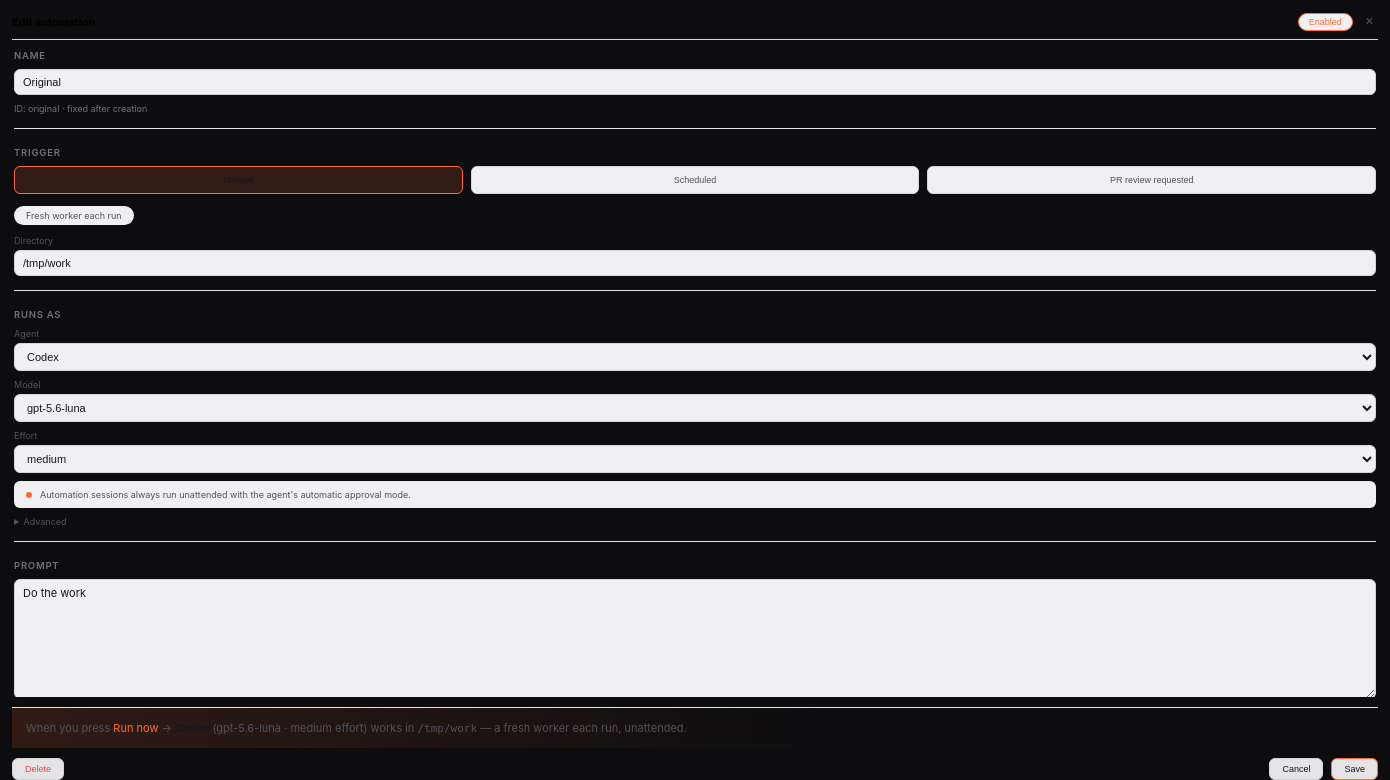
Test case: AutomationForm › revision_conflict shows a stale banner with Reload; Reload re-fetches and repopulates
Expected: the field with test id "automation-form-name" holds "Original", top-left (14, 69), bottom-right (1376, 95)
Click the button with test id "automation-form-save" at x=1355, y=769, box top-left (1332, 758), bottom-right (1378, 779)
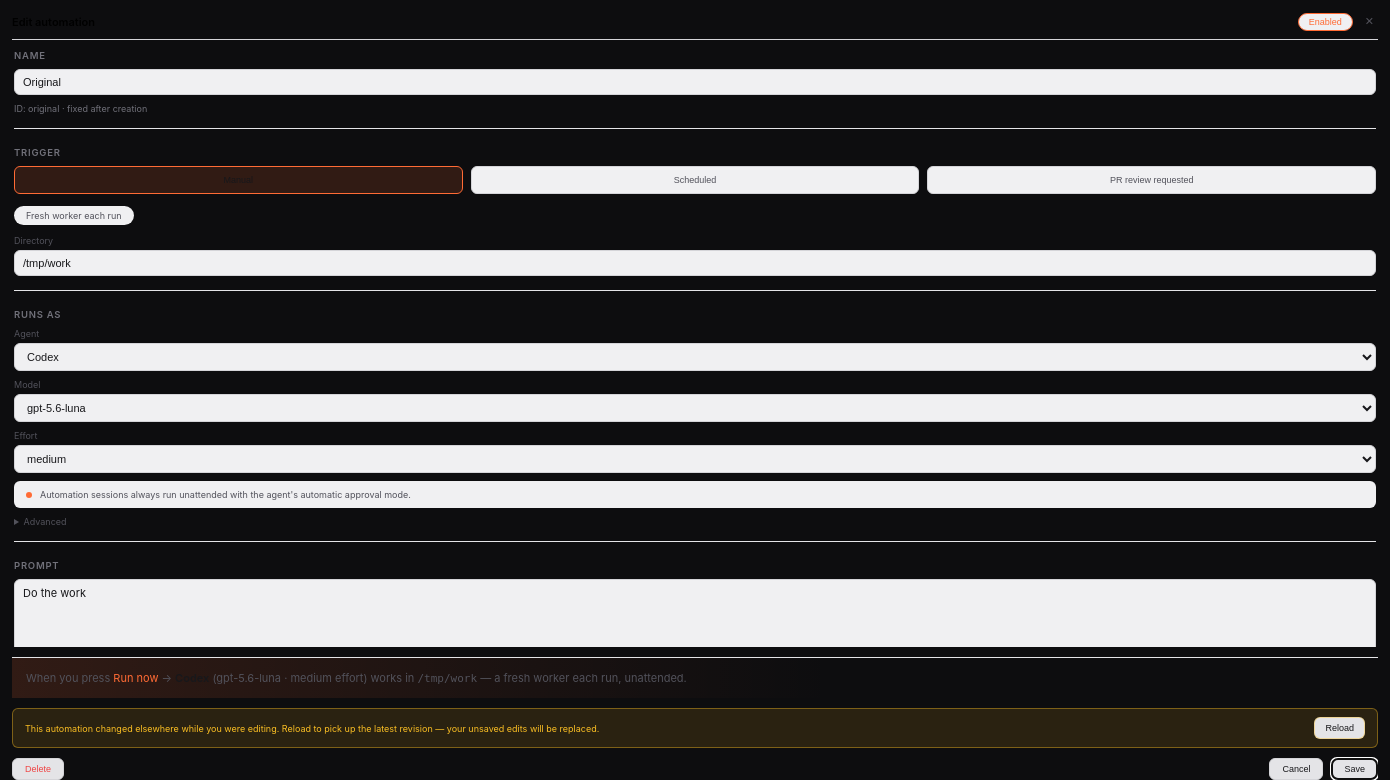
Expected: the element with test id "automation-form-stale-banner" is shown, top-left (12, 708), bottom-right (1378, 748)
Expected: the button with test id "automation-form-reload" is shown
Click the button with test id "automation-form-reload" at x=1340, y=728, box top-left (1314, 717), bottom-right (1365, 739)
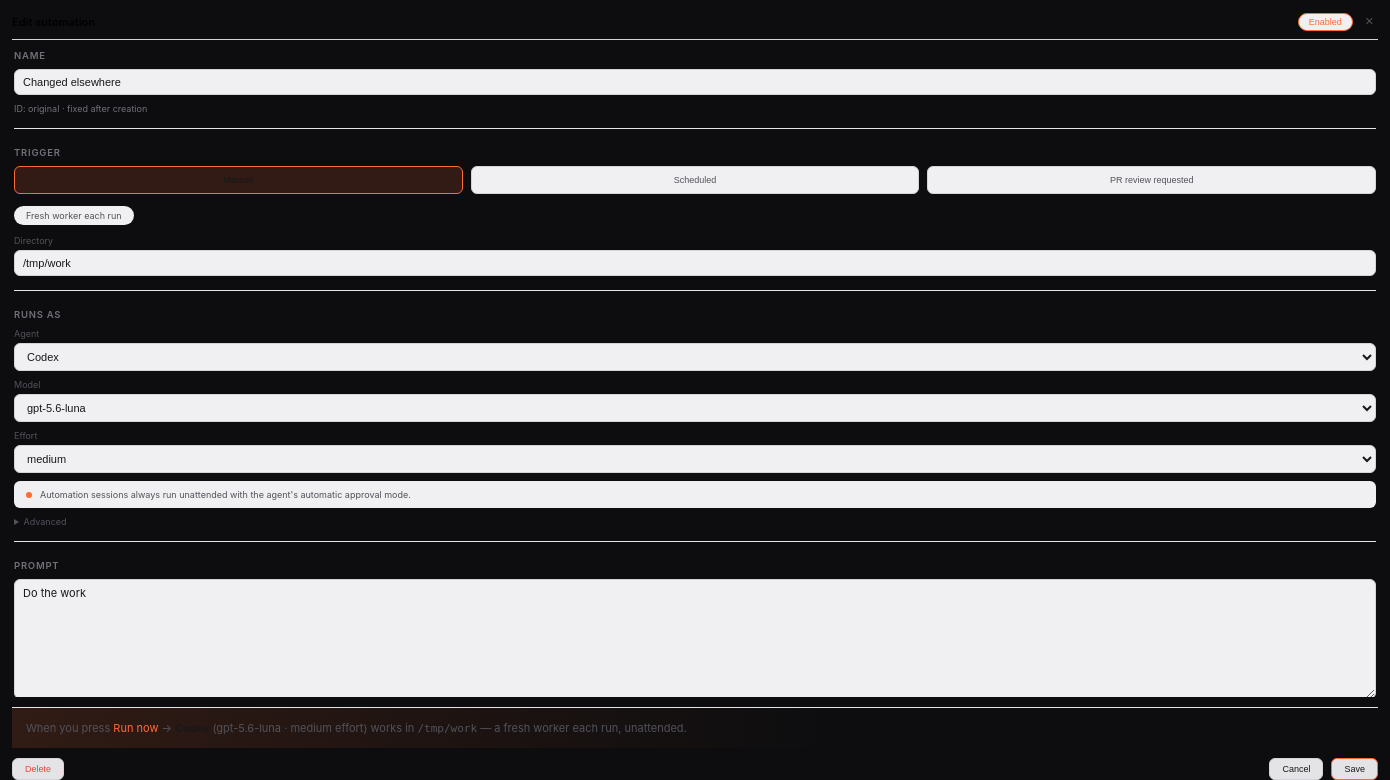
Expected: the field with test id "automation-form-name" holds "Changed elsewhere", top-left (14, 69), bottom-right (1376, 95)
Expected: the element with test id "automation-form-stale-banner" is gone
